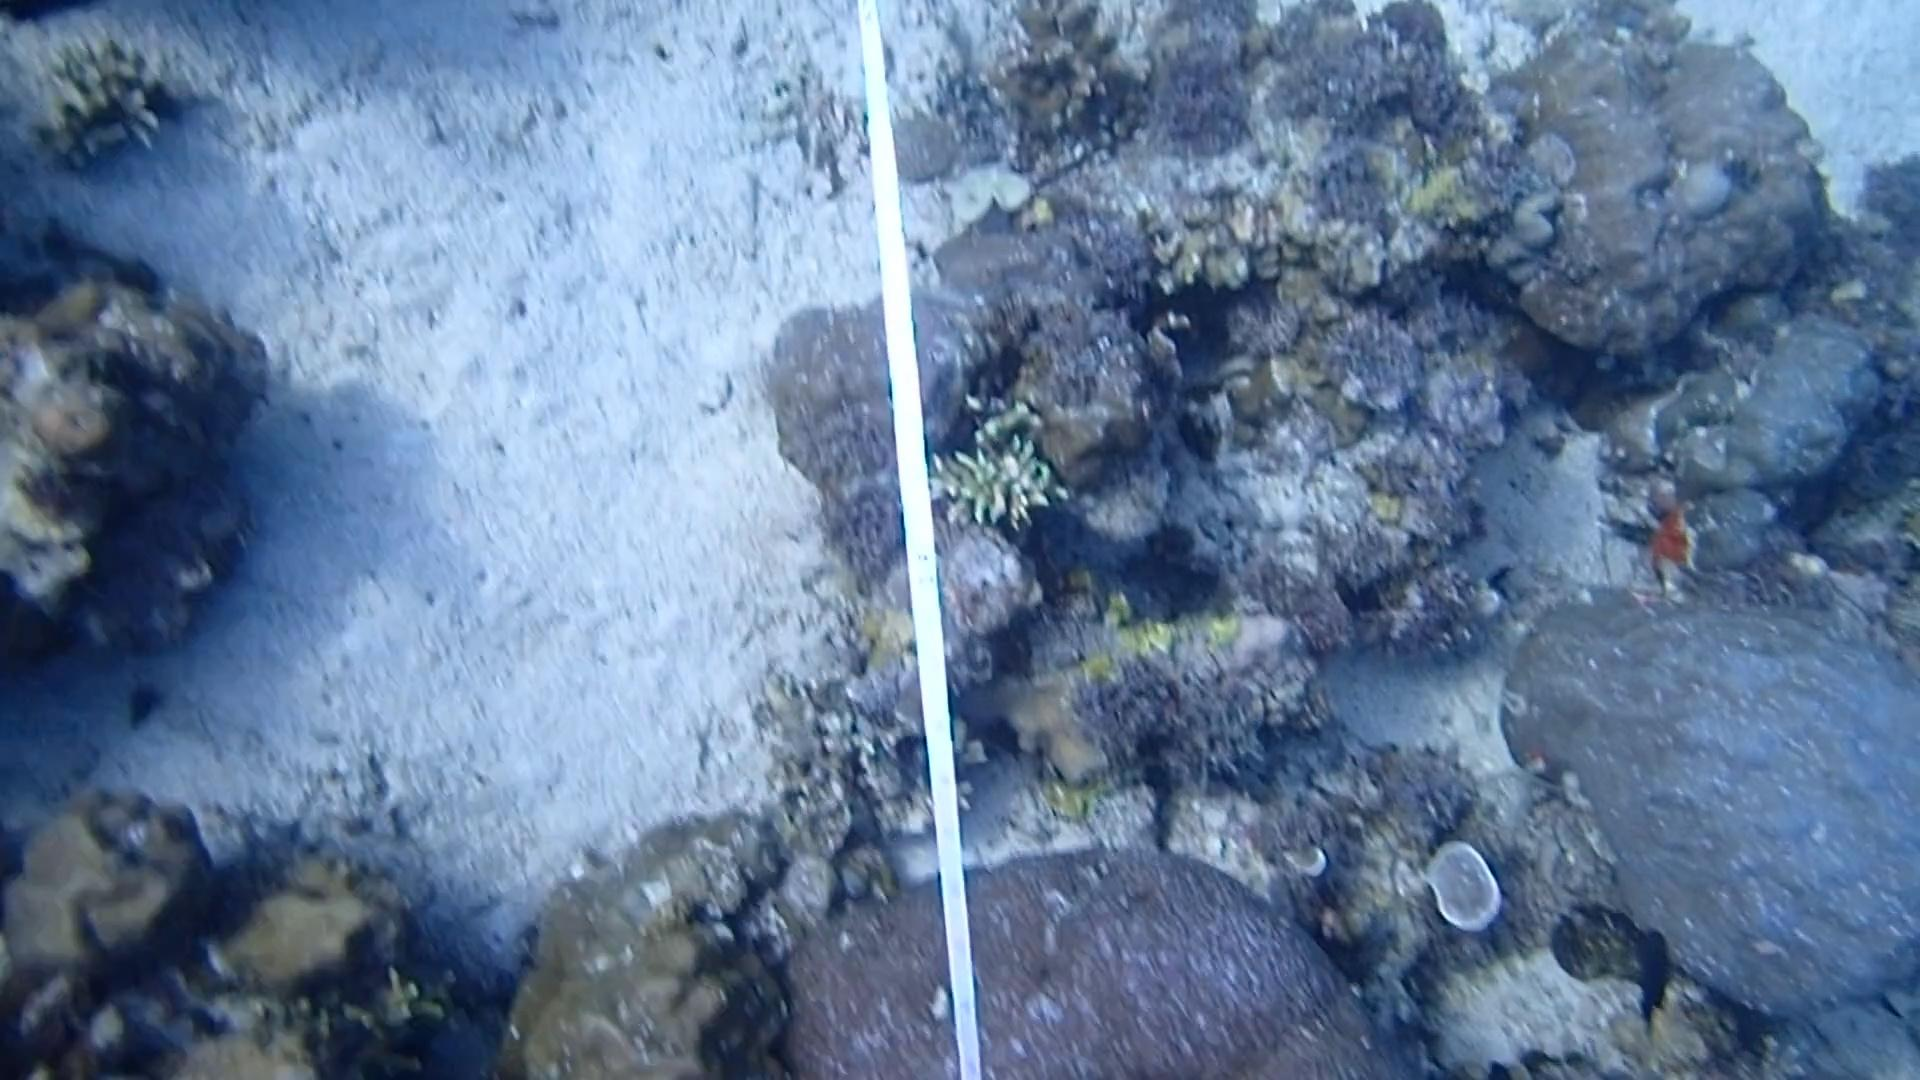Dark Fish: (1622, 923, 1675, 1026)
